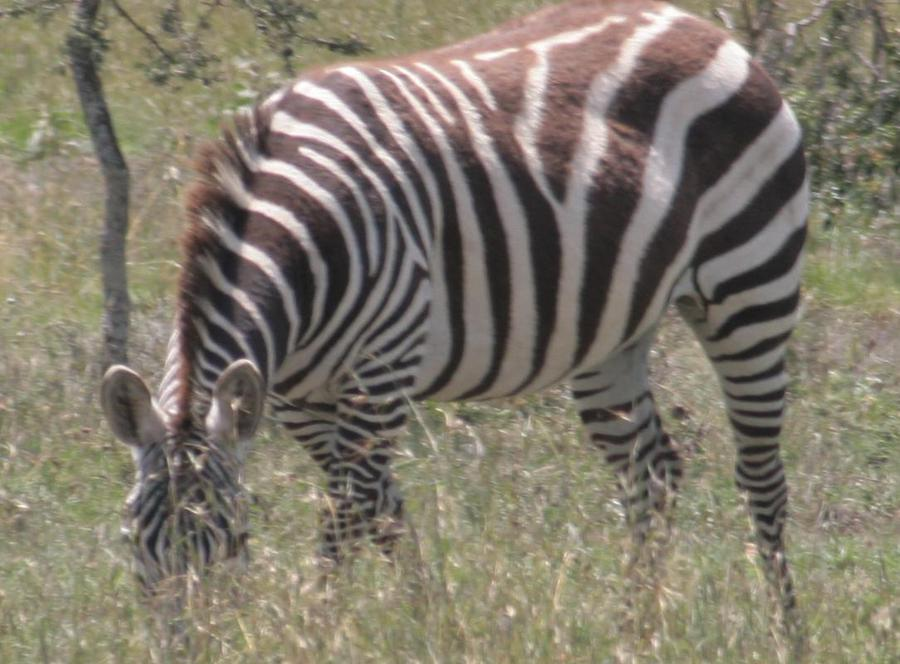zebra_plains: (199, 8, 870, 377)
